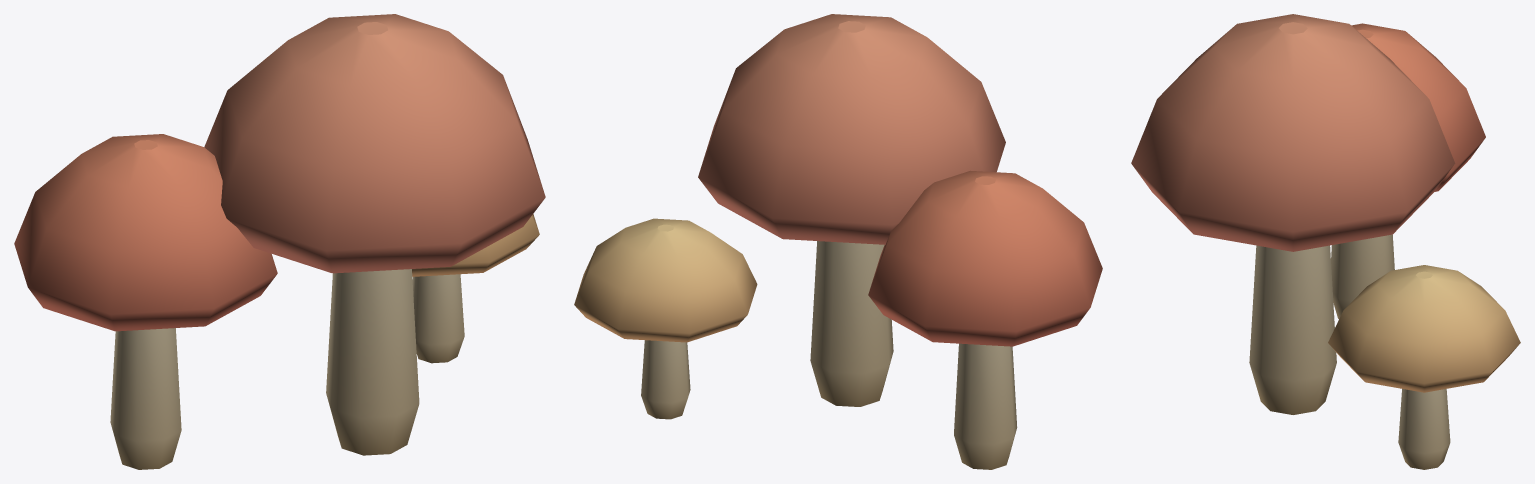
File: Origin_Coral_Mushroom_Cluster_LOD1.glb
3 renders of one model, left to right at view 1: azimuth 30°, elevation 25°; view 2: azimuth 150°, elevation 25°; view 3: azimuth 270°, elevation 25°, orthographic. The views are drawn at different scales.
Visible parts, largest first — view 1: Origin_Coral_Mushroom_Cluster_LOD1; view 2: Origin_Coral_Mushroom_Cluster_LOD1; view 3: Origin_Coral_Mushroom_Cluster_LOD1.
Boxes of the visible parts, x1,y1,x2,y2 form: Origin_Coral_Mushroom_Cluster_LOD1: (14, 14, 545, 469); Origin_Coral_Mushroom_Cluster_LOD1: (574, 14, 1102, 469); Origin_Coral_Mushroom_Cluster_LOD1: (1131, 14, 1520, 469).
Bounding box in the file's own units: 0.725 × 0.5336 × 0.505.
